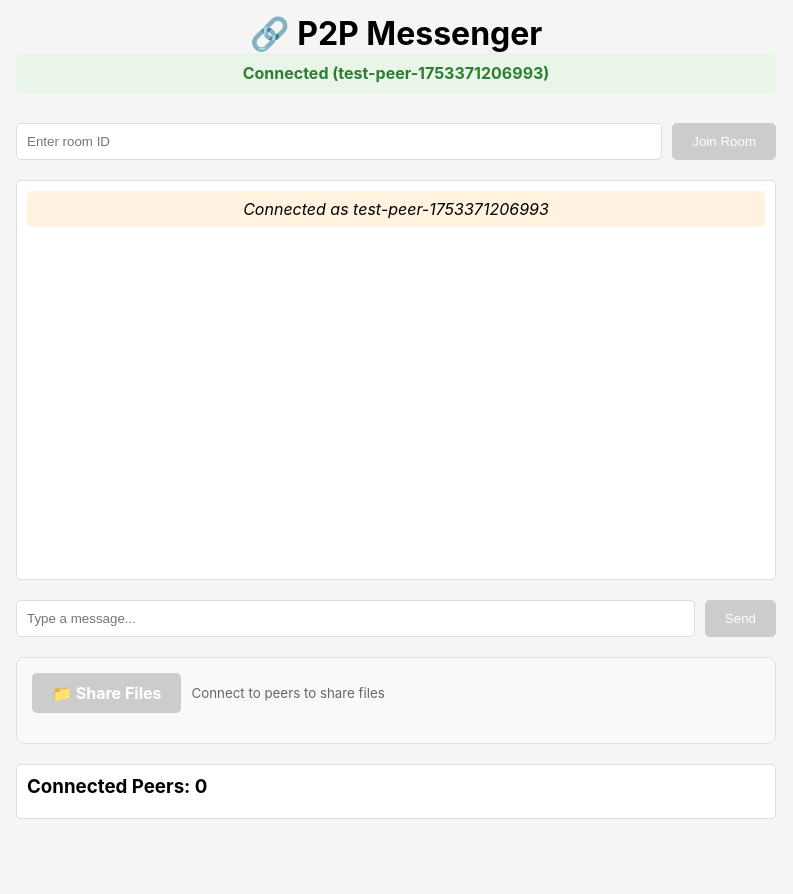
Test: App Component - Real Code Tests › should test real messaging workflow
expect the text "Connected (test-peer-1753371206993)" is shown: met, box [16,53,776,93]
In the field with placeholder "Enter room ID": (339, 142) [16,123,662,160], type "test-room"
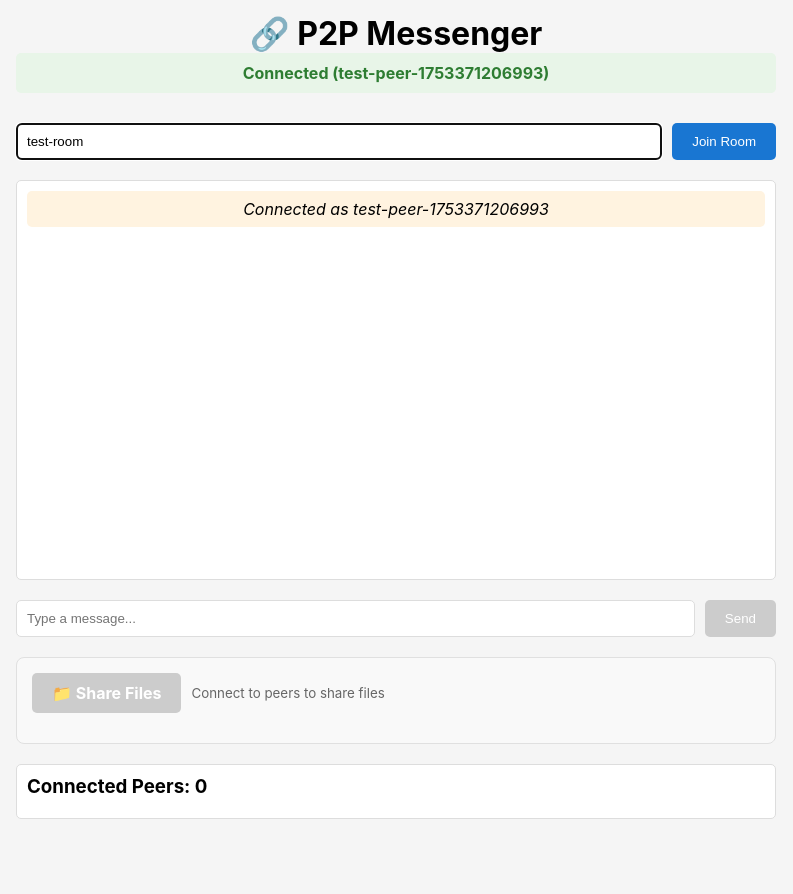
Press Enter
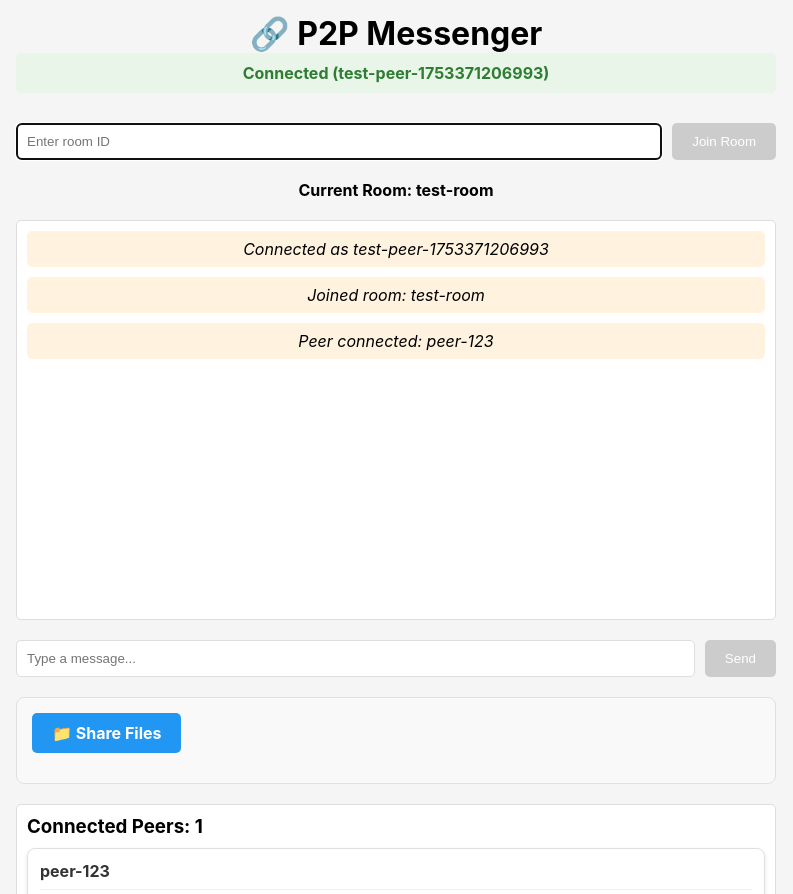
expect the heading "Connected Peers: 1" is shown: met, box [27,815,203,838]
In the field with placeholder "Type a message...": (355, 658) [16,640,695,677], type "Hello, real world!"
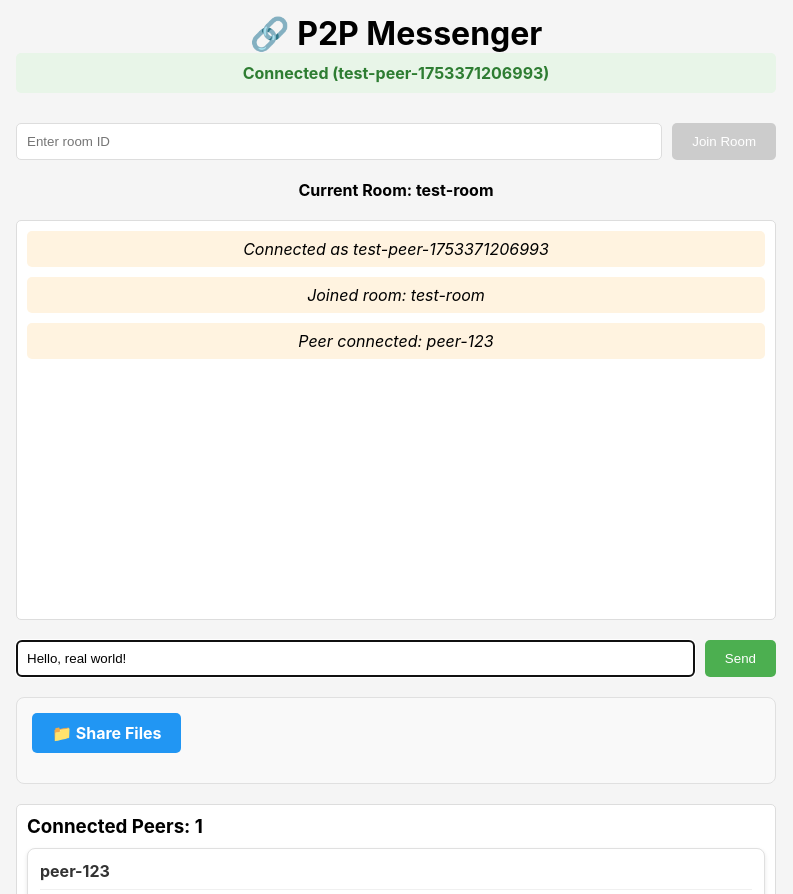
expect the button "Send" is enabled: met
Click the button "Send": (740, 658) [705,640,776,677]
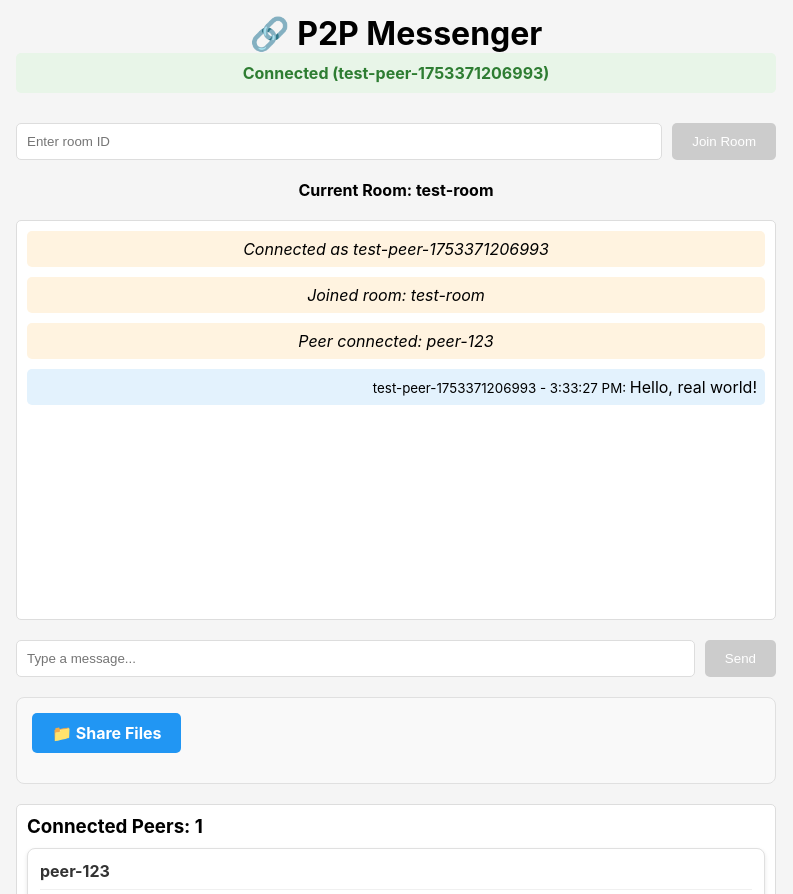
expect the text "Hello, real world!" is shown: met, box [630,377,757,397]
expect the field with placeholder "Type a message..." is empty: met, box [16,640,695,677]
